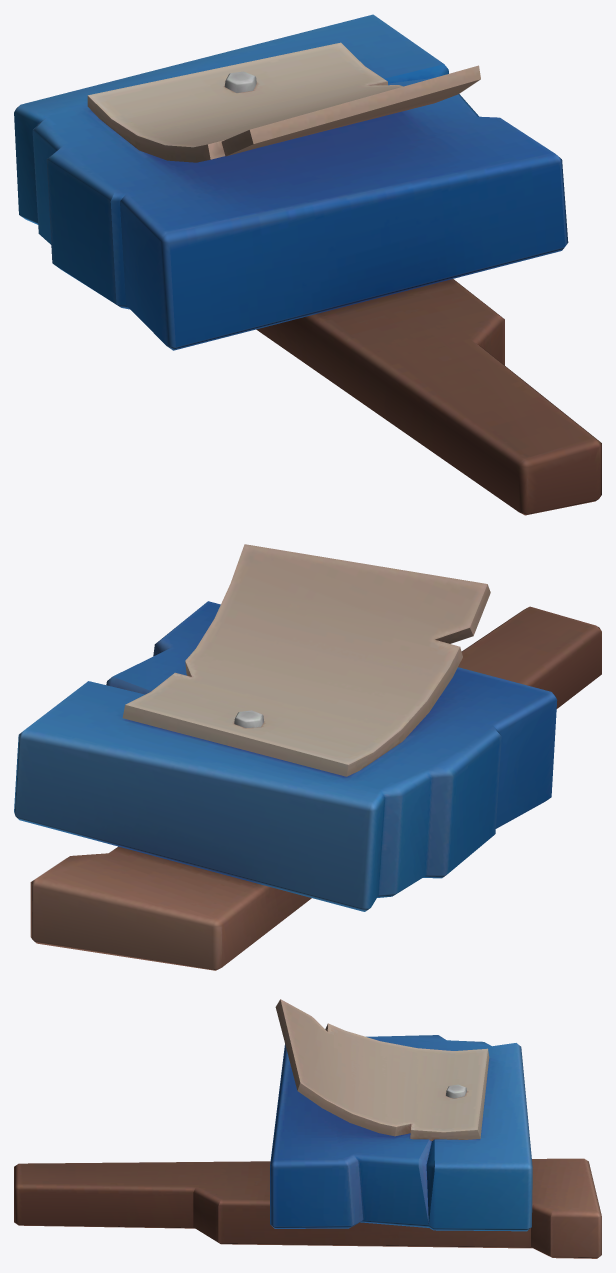
Rendered from BlankSignPost.fbx.
3 views of the same model, one above another, from view 1: azimuth 30°, elevation 25°; view 2: azimuth 150°, elevation 25°; view 3: azimuth 270°, elevation 25° (orthographic). The views are drawn at different scales.
Parts seen in each view (by area): view 1: BlankSignPost; view 2: BlankSignPost; view 3: BlankSignPost.
Boxes of the visible parts, bbox=[...] form: BlankSignPost: bbox=[14, 14, 601, 515]; BlankSignPost: bbox=[14, 544, 601, 970]; BlankSignPost: bbox=[14, 999, 601, 1258].
Bounding box in the file's own units: 58.69 × 37.43 × 111.
